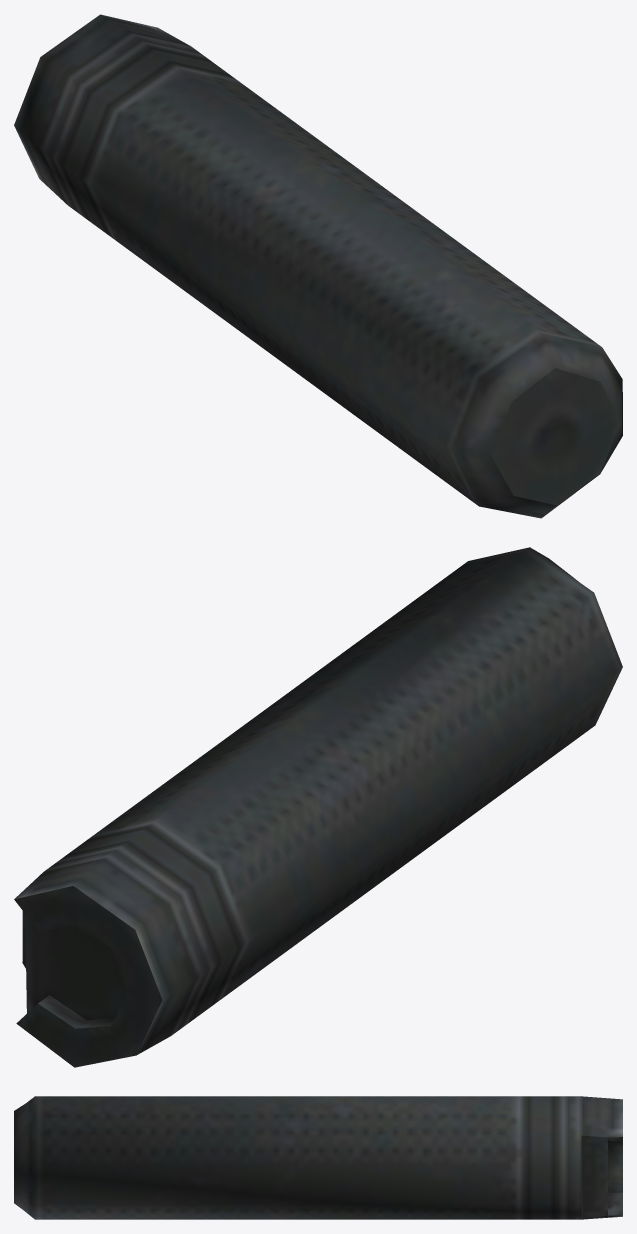
The model's file is Assault_Rifle_bq_xsq_01_Stock_Main_(000082).glb.
The picture shows the model from 3 angles, top to bottom: view 1: azimuth 30°, elevation 25°; view 2: azimuth 150°, elevation 25°; view 3: azimuth 270°, elevation 25°; orthographic projection. The views are drawn at different scales.
Visible parts, largest first — view 1: bq_xsq_01; view 2: bq_xsq_01; view 3: bq_xsq_01.
Boxes of the visible parts, box(x1,y1,x2,y2) form: bq_xsq_01: box(14, 14, 622, 518); bq_xsq_01: box(14, 547, 622, 1067); bq_xsq_01: box(14, 1096, 622, 1219).
Bounding box in the file's own units: 0.0495 × 0.0511 × 0.23.
Materials: 1 (1 with a texture image).
